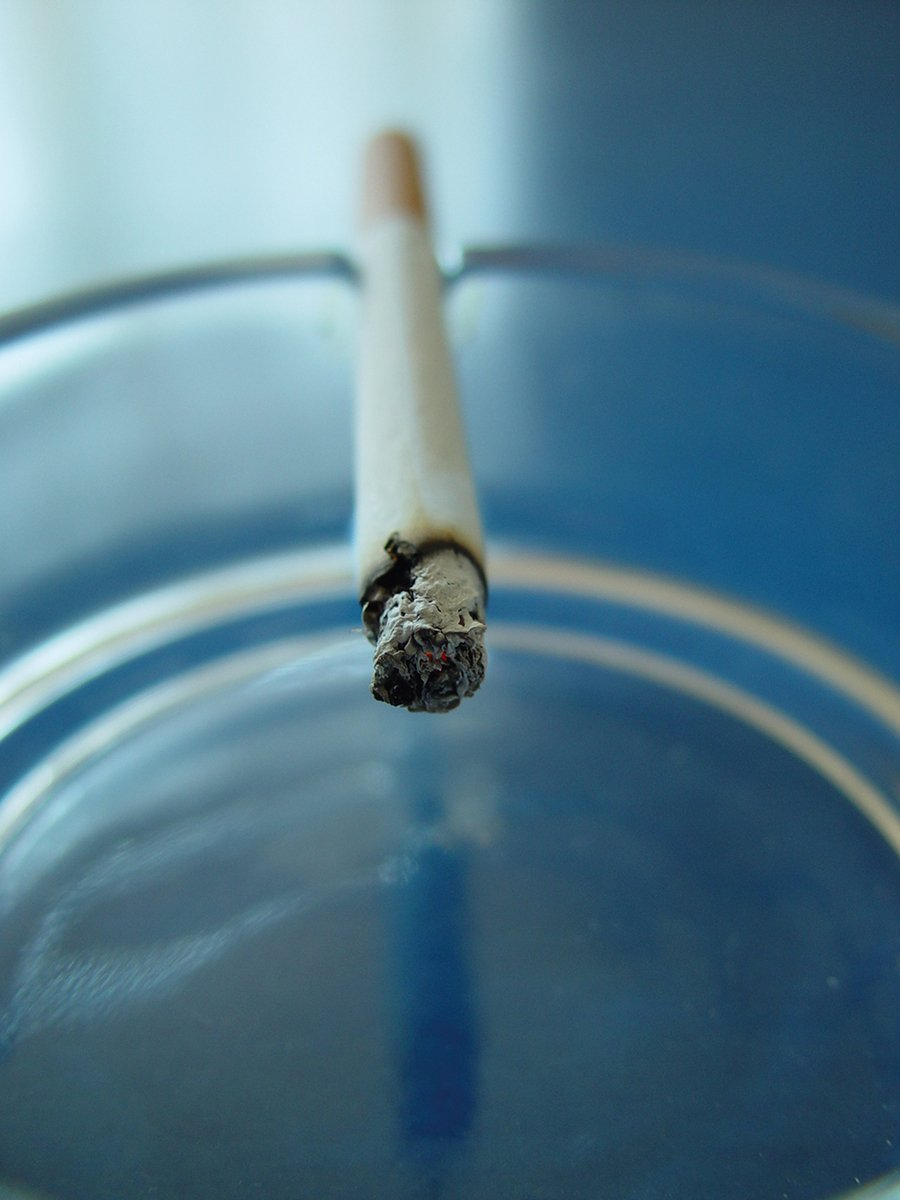cigarette: (343, 122, 496, 722)
